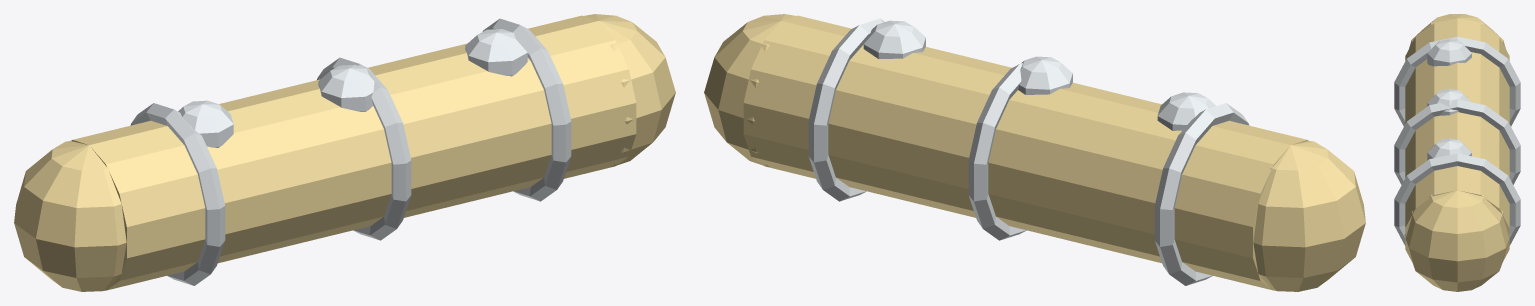
File: tubo_comida_dorada.glb
3 views of the same model, side by side, from view 1: azimuth 30°, elevation 25°; view 2: azimuth 150°, elevation 25°; view 3: azimuth 270°, elevation 25° (orthographic). The views are drawn at different scales.
Visible parts, largest first — view 1: tubo_comida_dorada; view 2: tubo_comida_dorada; view 3: tubo_comida_dorada.
Boxes of the visible parts, box(x1,y1,x2,y2) form: tubo_comida_dorada: box(14, 14, 675, 291); tubo_comida_dorada: box(704, 14, 1365, 291); tubo_comida_dorada: box(1394, 14, 1520, 291).
Bounding box in the file's own units: 1.96 × 0.509 × 0.4855.
